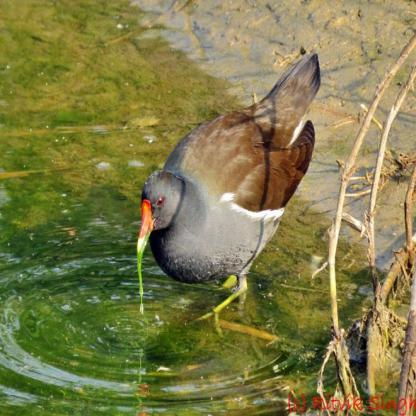Burung: (135, 52, 320, 340)
